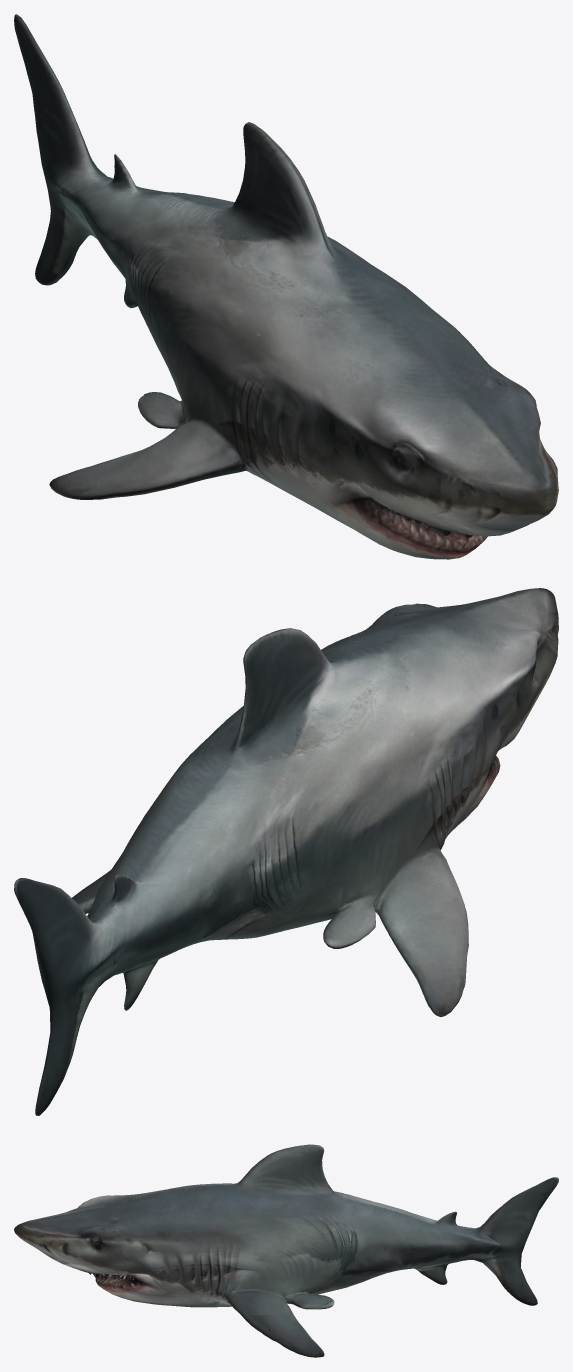
Rendered from giant-shark.glb.
3 views of the same model, one above another, from view 1: azimuth 30°, elevation 25°; view 2: azimuth 150°, elevation 25°; view 3: azimuth 270°, elevation 25° (orthographic). The views are drawn at different scales.
Size of the model in its own units: 0.855 by 0.6671 by 2.
Materials: 1 (1 with a texture image).
